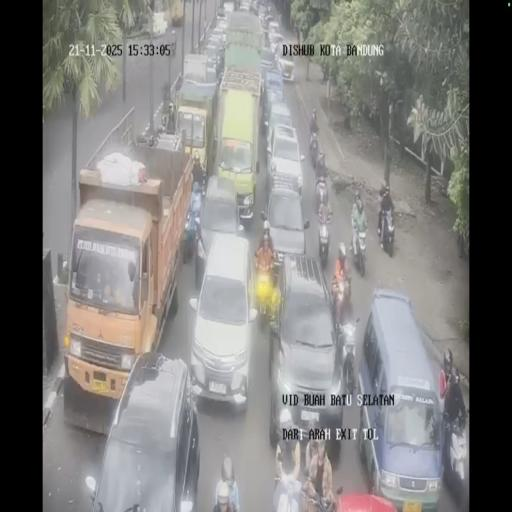car: (356, 289, 445, 503), (88, 352, 199, 508), (268, 255, 342, 448), (196, 173, 244, 278), (263, 186, 306, 265), (266, 97, 293, 144), (203, 42, 224, 80), (258, 46, 276, 78), (278, 54, 295, 82), (267, 20, 281, 46), (258, 8, 272, 32), (216, 4, 228, 21), (239, 0, 251, 12), (249, 0, 259, 14)
motorcycle: (335, 310, 359, 396), (445, 406, 468, 484), (271, 461, 303, 512), (181, 196, 200, 265), (350, 221, 368, 276), (378, 202, 396, 257), (316, 208, 332, 265), (190, 161, 206, 201), (315, 176, 329, 212), (309, 134, 319, 170)
truck: (172, 68, 218, 178), (222, 8, 264, 82)
